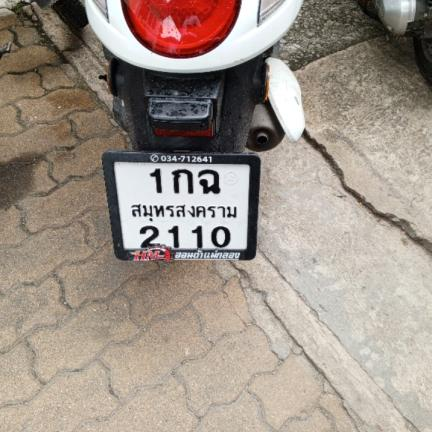0: (208, 224, 235, 247)
1: (146, 165, 168, 195), (187, 221, 205, 249), (165, 222, 181, 249)
2: (136, 223, 162, 248)
A01: (171, 166, 194, 197)
A09: (197, 169, 222, 199)
SKM: (127, 200, 239, 220)
